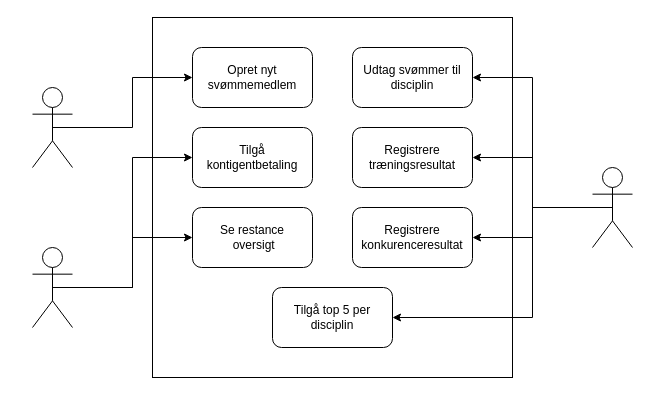
Image size: 650x395. Some labels were removed from this diagram. The centre of each missing label's shape, as x and y in pixels:
"Klubformand" belongs at point (52, 127).
"Klubkasserer" belongs at point (52, 287).
"Træner" belongs at point (612, 207).
